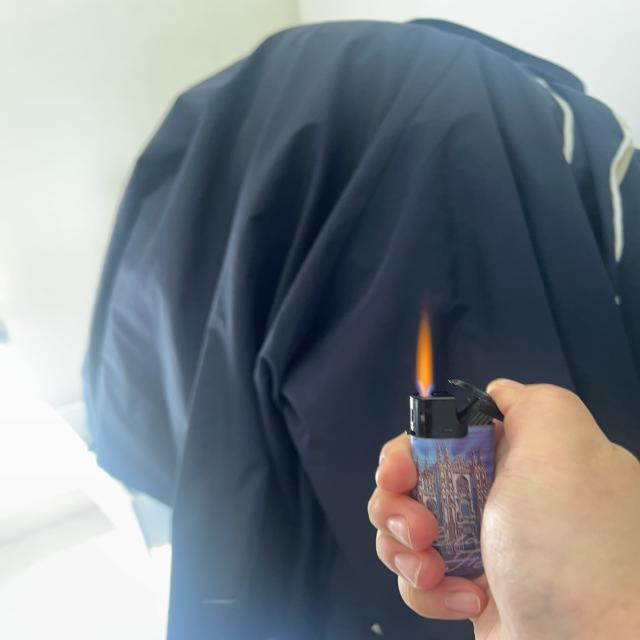fire: (414, 312, 436, 390)
